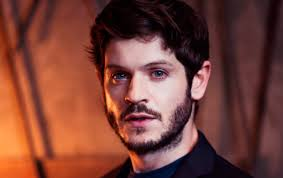middle_eastern_male: (104, 32, 198, 145)
